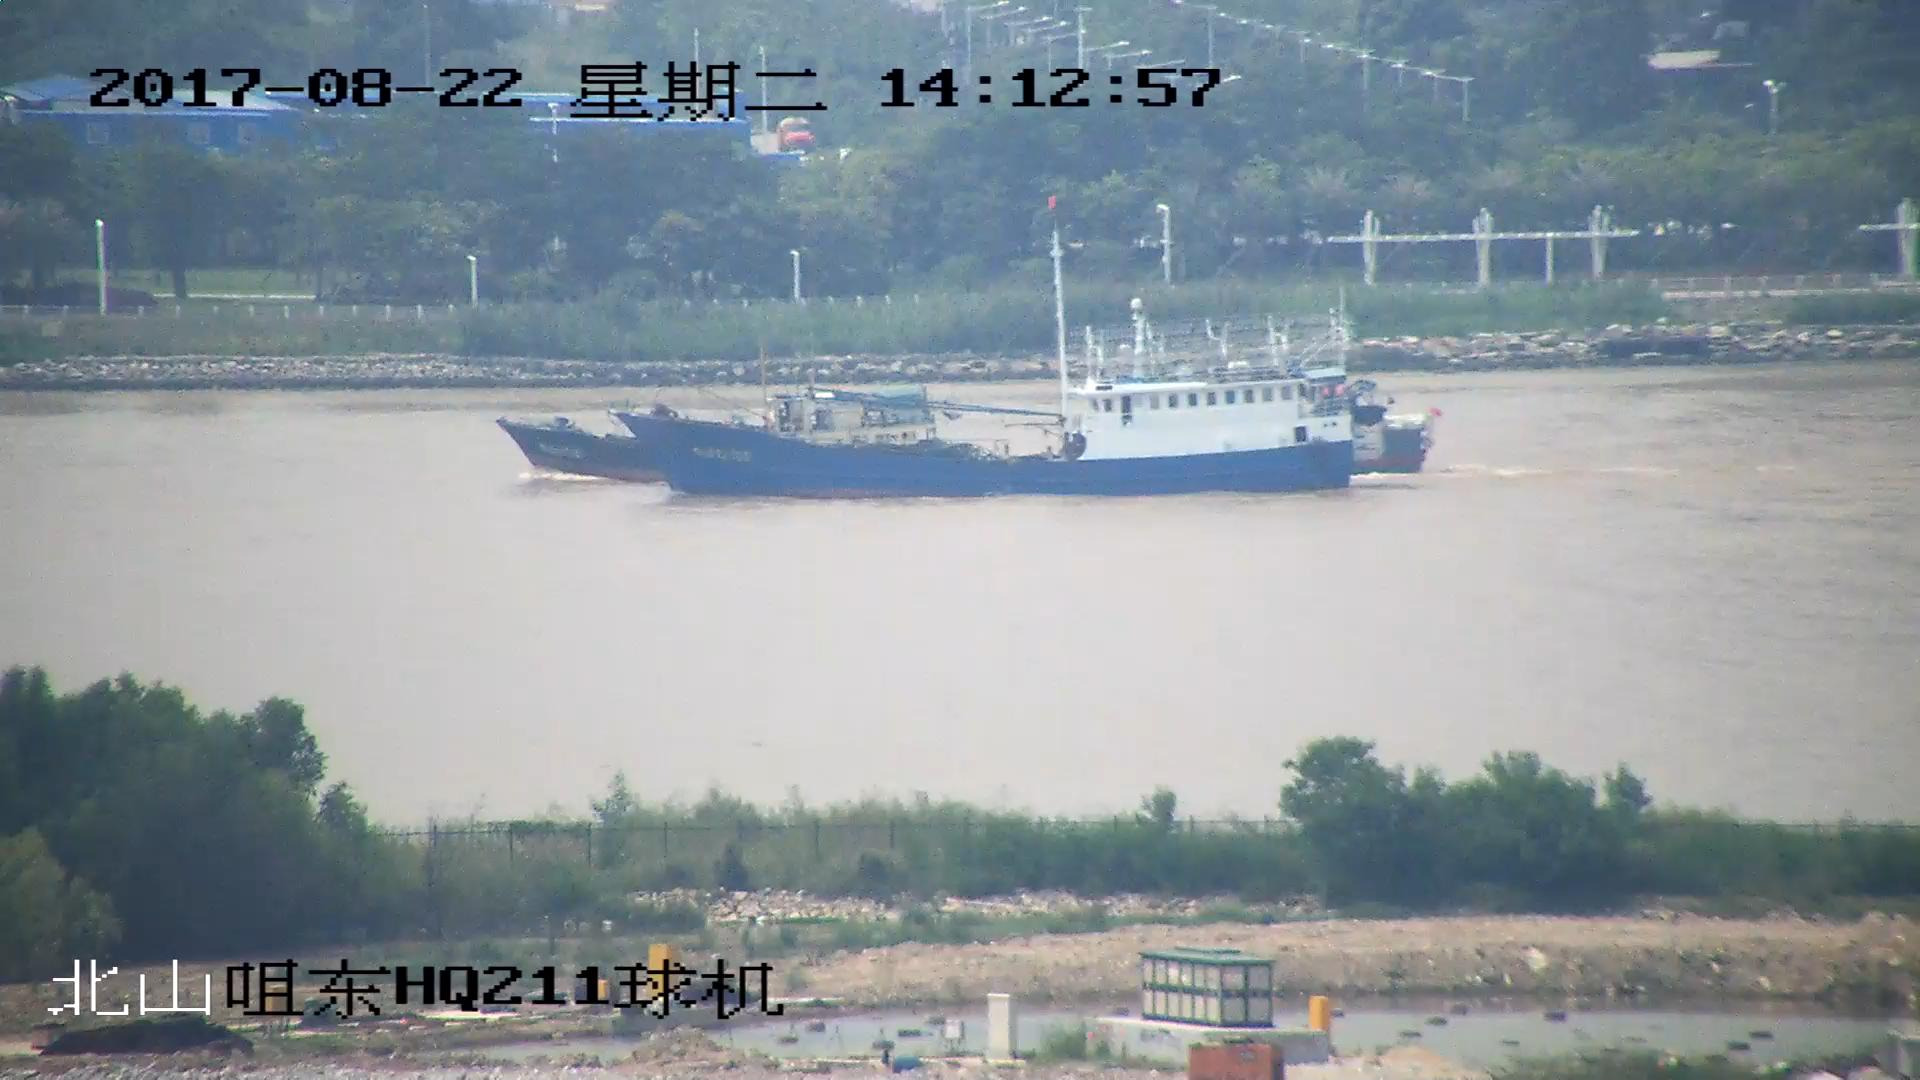fishing boat: (616, 188, 1395, 493), (504, 384, 953, 484), (1321, 403, 1435, 478)
